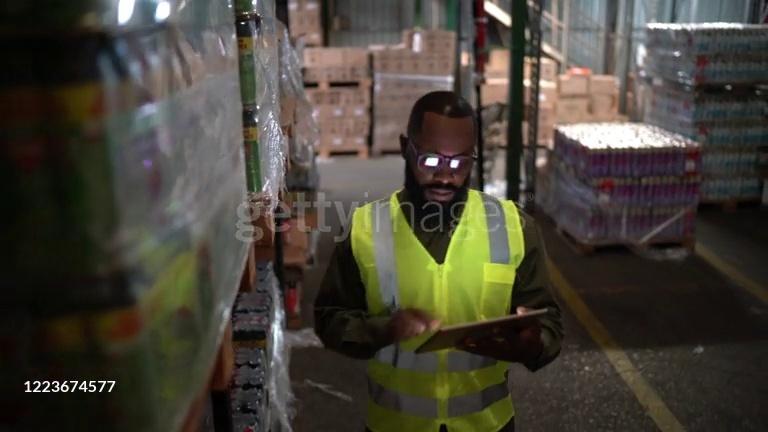person: (307, 88, 564, 432)
